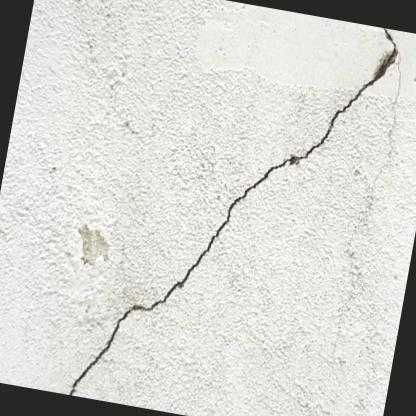crack: (68, 27, 399, 395)
